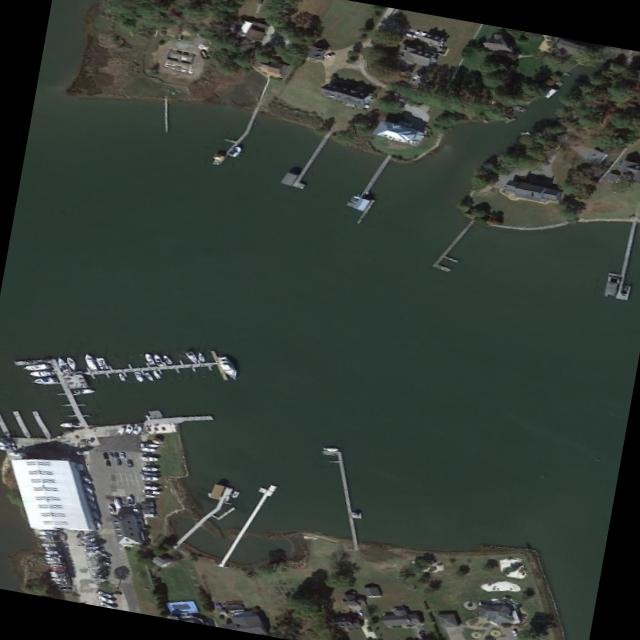ship: (215, 356, 243, 381), (79, 353, 100, 372), (18, 362, 53, 372), (27, 369, 59, 379), (52, 357, 71, 372), (226, 145, 245, 160), (151, 353, 168, 368), (31, 378, 61, 386), (185, 351, 202, 365), (58, 420, 84, 429), (64, 356, 79, 371), (142, 354, 158, 368), (61, 374, 77, 388), (96, 595, 115, 605), (95, 358, 111, 369), (142, 371, 157, 382), (137, 455, 159, 462), (132, 371, 146, 382), (75, 375, 89, 386), (96, 590, 114, 598), (131, 424, 144, 435), (138, 441, 158, 448), (72, 388, 95, 394), (80, 537, 97, 545), (196, 352, 209, 362), (115, 372, 128, 382), (86, 549, 102, 557), (74, 449, 92, 456), (82, 545, 100, 552), (141, 489, 161, 495), (79, 533, 98, 539), (320, 447, 341, 452), (139, 447, 156, 453), (141, 475, 158, 481), (141, 484, 158, 490), (0, 445, 17, 451), (0, 439, 17, 445), (44, 553, 64, 558), (124, 425, 135, 434), (164, 355, 175, 364), (151, 371, 163, 379), (140, 466, 159, 471), (52, 581, 70, 586), (115, 426, 125, 435), (37, 531, 58, 535), (231, 491, 241, 499), (39, 535, 55, 540), (49, 573, 67, 577), (143, 493, 156, 498), (48, 564, 64, 568), (46, 560, 62, 564), (41, 543, 57, 547), (45, 557, 61, 561), (49, 578, 69, 581), (48, 571, 67, 574), (43, 547, 61, 550), (44, 551, 60, 554)
small-vehicle: (92, 520, 106, 531), (82, 483, 97, 493), (85, 491, 100, 501), (83, 499, 99, 508), (88, 510, 103, 519), (112, 498, 124, 508), (80, 474, 93, 483), (105, 506, 117, 515), (125, 458, 135, 468), (510, 629, 520, 637), (103, 459, 113, 467), (114, 459, 124, 467), (126, 496, 134, 505), (102, 452, 110, 460), (120, 451, 127, 458), (113, 451, 119, 458)
